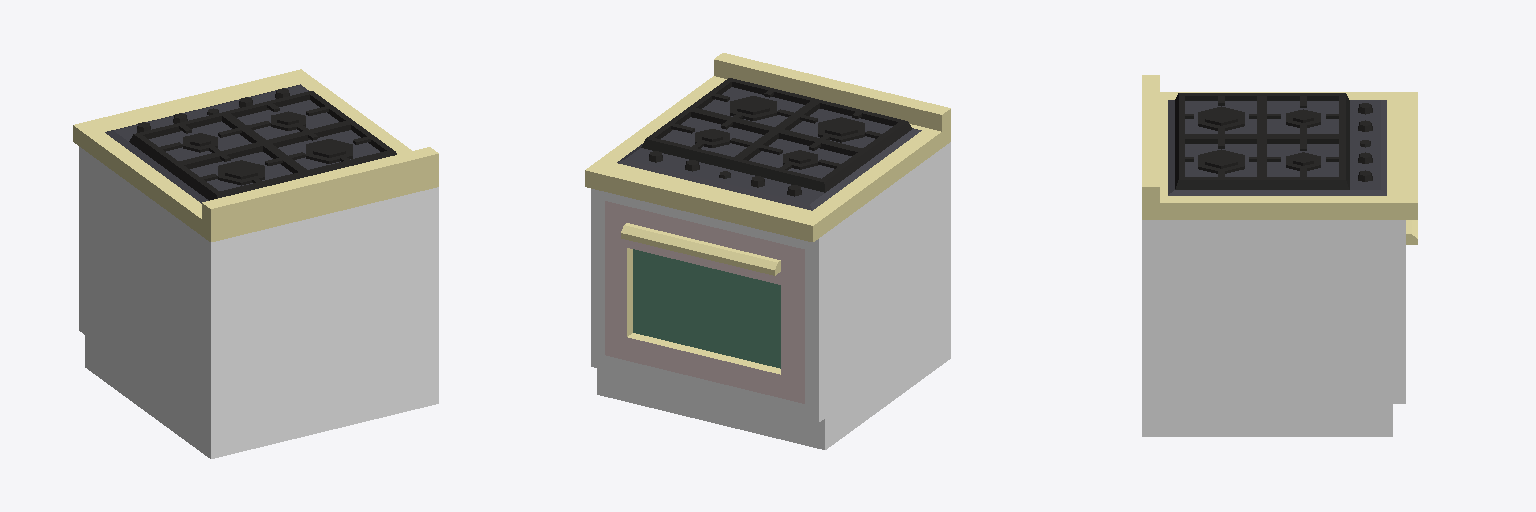
The model's file is stove.obj.
3 views of the same model, side by side, from view 1: azimuth 30°, elevation 25°; view 2: azimuth 150°, elevation 25°; view 3: azimuth 270°, elevation 25° (orthographic).
Visible parts, largest first — view 1: kitchenStove; view 2: kitchenStove; view 3: kitchenStove.
Part boxes in pixels (left/top/right/bottom): kitchenStove: left=73, top=69, right=438, bottom=458; kitchenStove: left=585, top=53, right=950, bottom=449; kitchenStove: left=1142, top=75, right=1417, bottom=436.
Bounding box in the file's own units: 0.43 × 0.45 × 0.45.